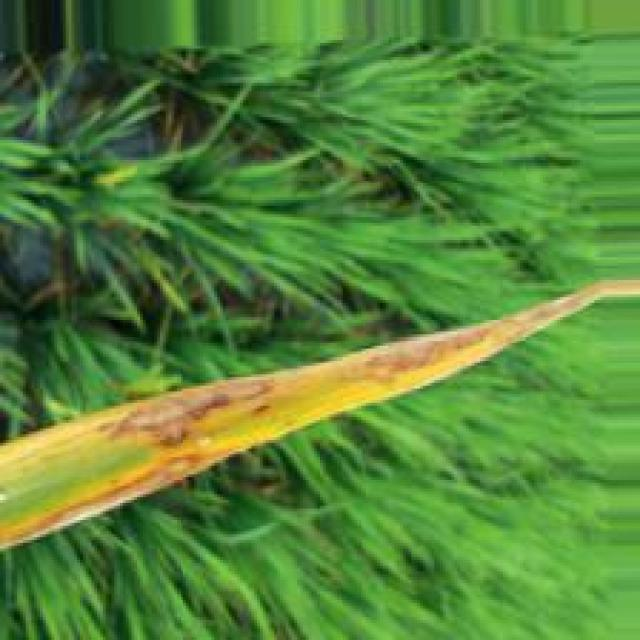Bacterial_Leaf_Blight: (0, 428, 277, 550), (95, 374, 277, 449), (346, 320, 499, 388), (251, 402, 277, 416)
